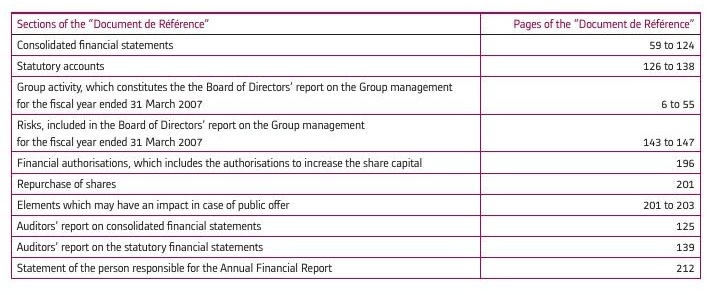table: (0, 0, 711, 295)
